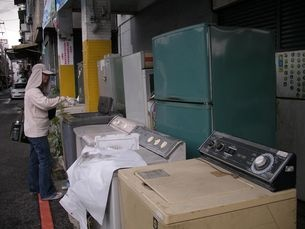plastic_bag: (60, 132, 146, 228)
washing_machine: (118, 131, 297, 229), (62, 97, 113, 168)
